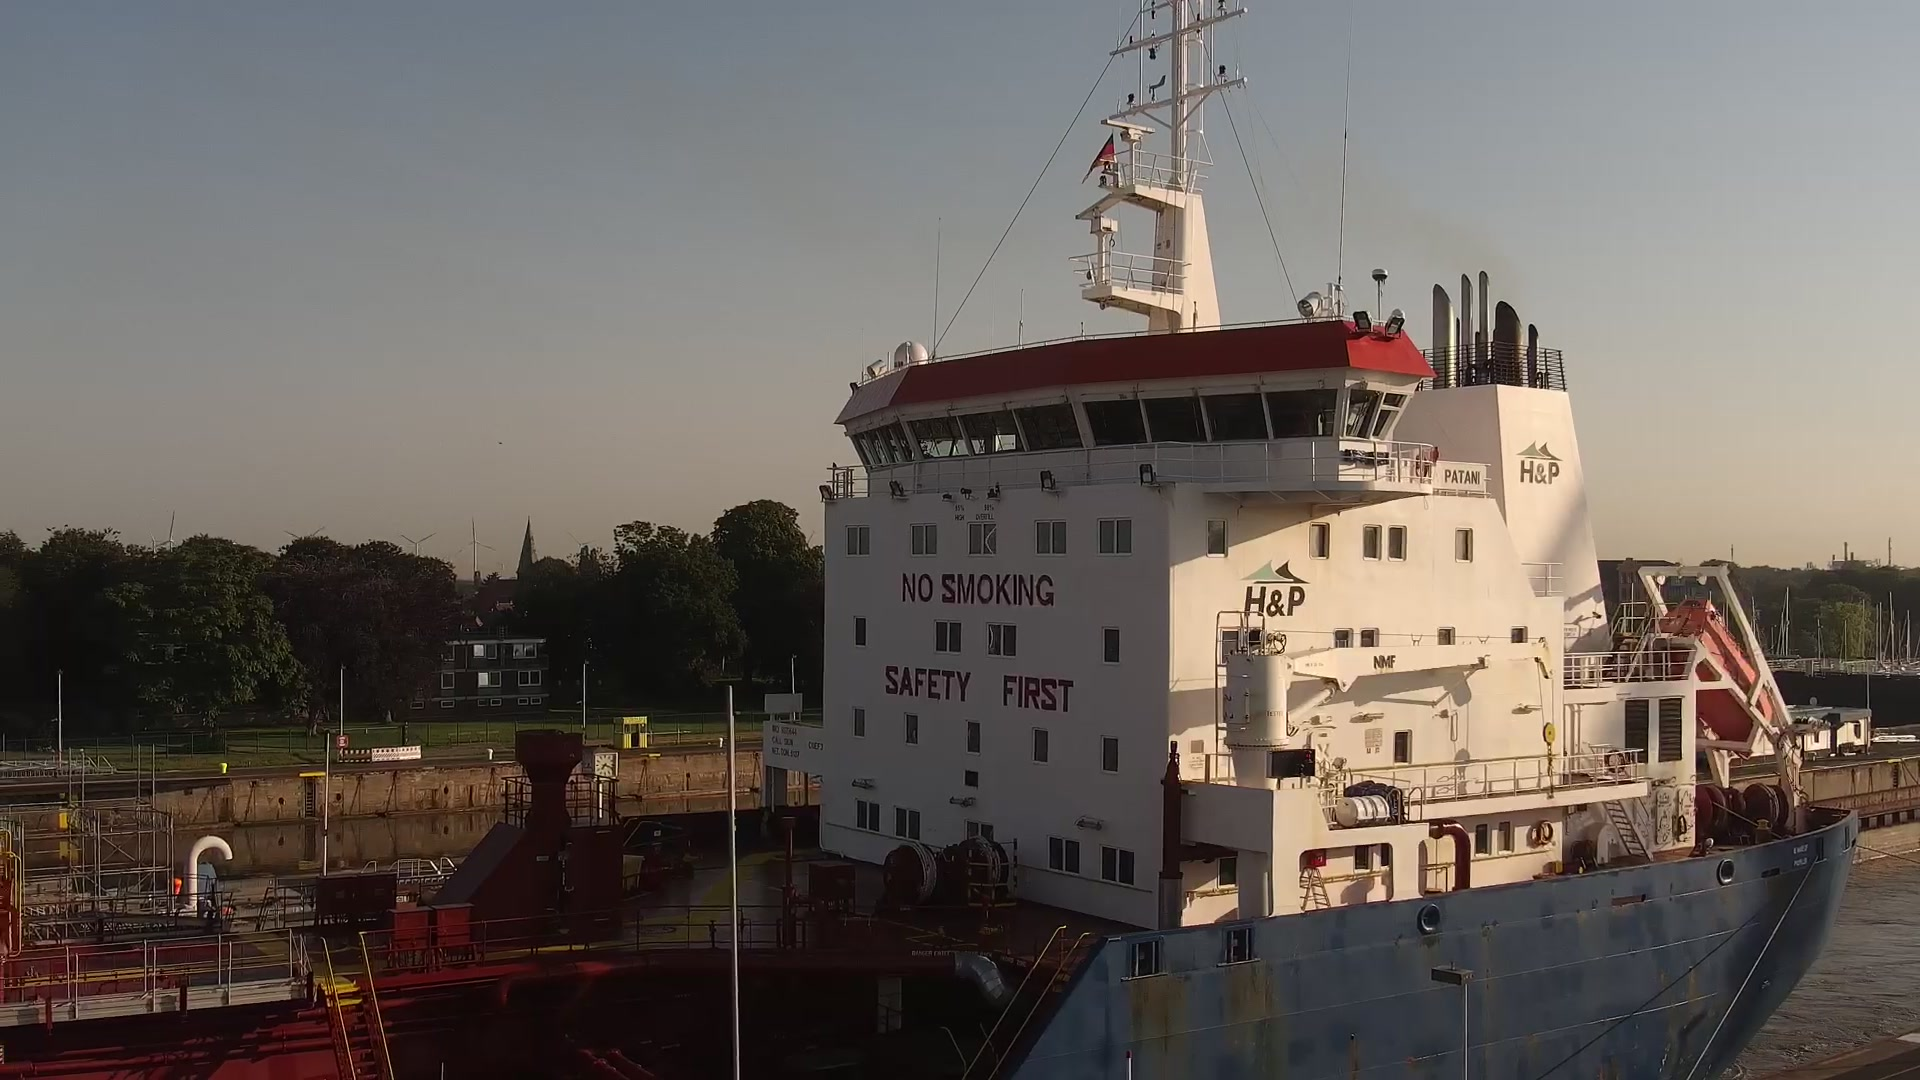sea: (1, 1, 1857, 1080)
